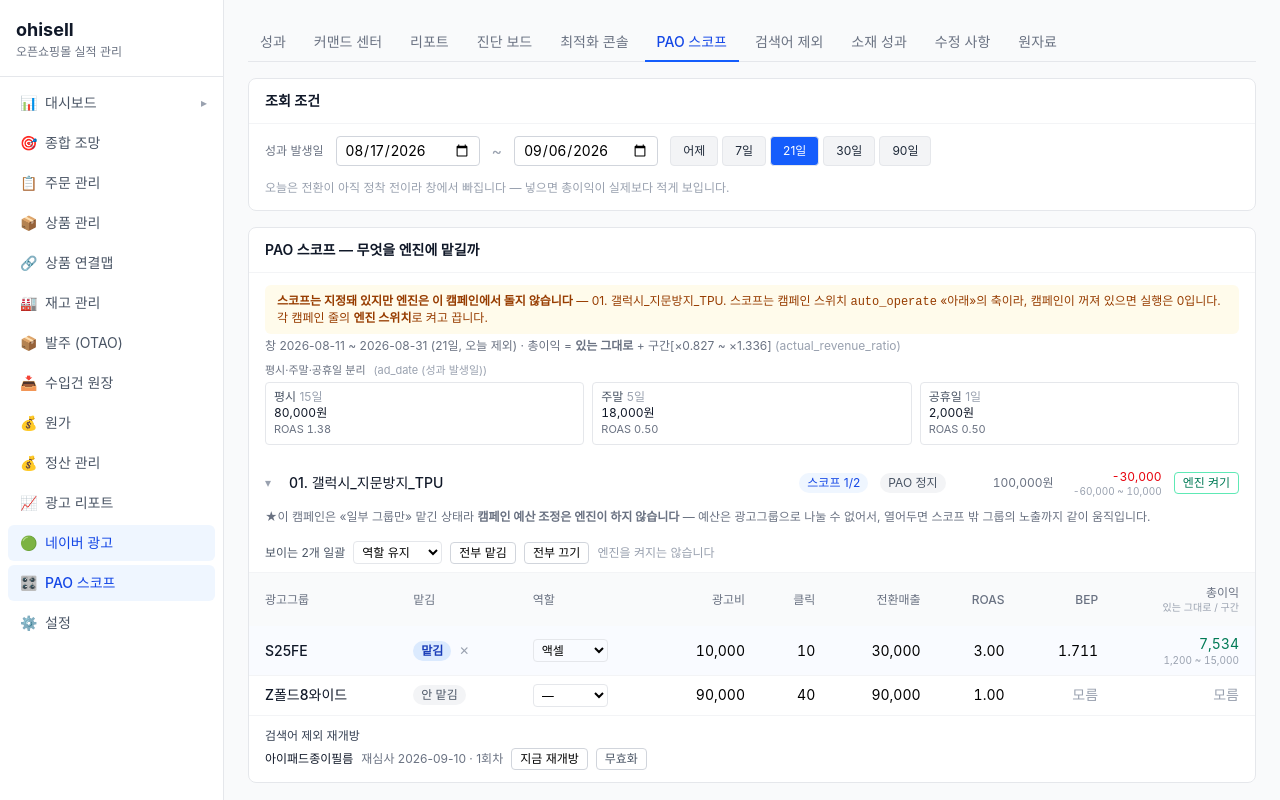
void — 원장 무효화 손이 사람에게 닿는다 › BV-5: ★`wisdom_may_have_counted: null`을 «아니오»로 접지 않는다
Click the button "무효화" at [621, 759], box [596,748,647,770]
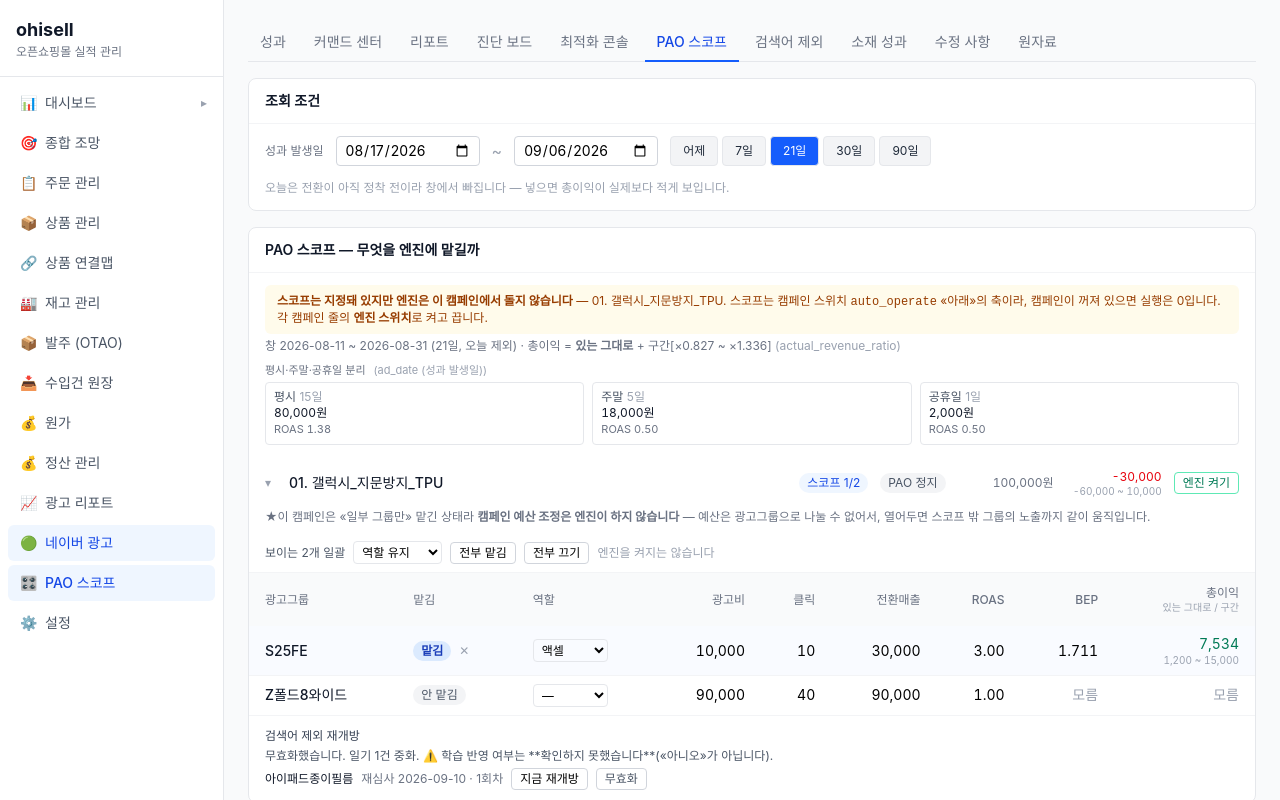
Now the text "무효화했습니다. 일기 1건 중화. ⚠️ 학습 반영 여부는 **확인하지 못했습니다**(«아니오»가 아닙니다)." is shown, box [265,748,773,763]
